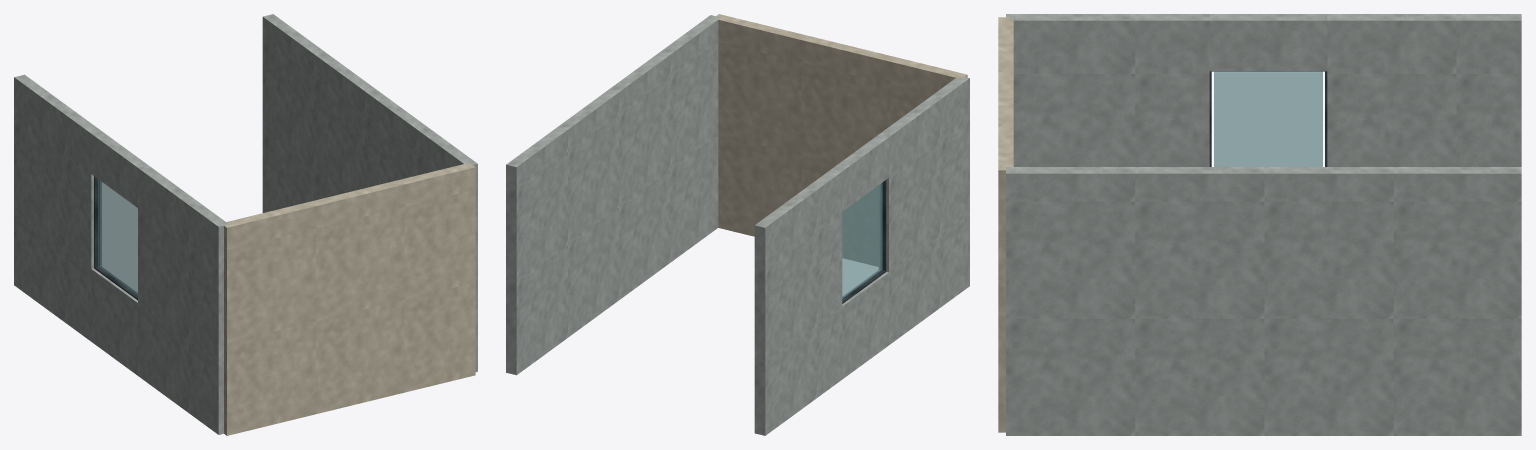
Rendered from Stair_Core_Shaft.glb.
3 renders of one model, left to right at view 1: azimuth 30°, elevation 25°; view 2: azimuth 150°, elevation 25°; view 3: azimuth 270°, elevation 25°, orthographic. The views are drawn at different scales.
Parts seen in each view (by area): view 1: VIS_Shaft_Rear_wall_0_0_0009, VIS_Shaft_Wall_East_wall_0_0_0008, VIS_Shaft_Wall_West_wall_2_1_0006, VIS_Shaft_Wall_West_wall_0_1_0001, VIS_Shaft_Wall_West_wall_2_0_0005, VIS_Shaft_Wall_West_wall_0_0_0000, VIS_Shaft_Wall_West_wall_2_2_0007, VIS_Shaft_Wall_West_wall_0_2_0002, VIS_Shaft_Wall_West_wall_1_0_0003, VIS_Shaft_Window_pane_0014, VIS_Shaft_Wall_West_wall_1_2_0004, VIS_Shaft_Window_upright_0010; view 2: VIS_Shaft_Wall_East_wall_0_0_0008, VIS_Shaft_Rear_wall_0_0_0009, VIS_Shaft_Wall_West_wall_0_1_0001, VIS_Shaft_Wall_West_wall_2_1_0006, VIS_Shaft_Wall_West_wall_0_0_0000, VIS_Shaft_Wall_West_wall_2_0_0005, VIS_Shaft_Wall_West_wall_0_2_0002, VIS_Shaft_Wall_West_wall_2_2_0007, VIS_Shaft_Wall_West_wall_1_0_0003, VIS_Shaft_Window_pane_0014, VIS_Shaft_Wall_West_wall_1_2_0004, VIS_Shaft_Window_upright_0011; view 3: VIS_Shaft_Wall_East_wall_0_0_0008, VIS_Shaft_Wall_West_wall_2_1_0006, VIS_Shaft_Wall_West_wall_0_1_0001, VIS_Shaft_Wall_West_wall_2_2_0007, VIS_Shaft_Wall_West_wall_0_2_0002, VIS_Shaft_Window_pane_0014, VIS_Shaft_Wall_West_wall_1_2_0004, VIS_Shaft_Rear_wall_0_0_0009.
Boxes of the visible parts, x1,y1,x2,y2 form: VIS_Shaft_Rear_wall_0_0_0009: (222, 163, 475, 435); VIS_Shaft_Wall_East_wall_0_0_0008: (262, 14, 477, 371); VIS_Shaft_Wall_West_wall_2_1_0006: (138, 208, 223, 361); VIS_Shaft_Wall_West_wall_0_1_0001: (14, 117, 101, 268); VIS_Shaft_Wall_West_wall_2_0_0005: (138, 303, 223, 434); VIS_Shaft_Wall_West_wall_0_0_0000: (14, 212, 91, 341); VIS_Shaft_Wall_West_wall_2_2_0007: (138, 165, 228, 266); VIS_Shaft_Wall_West_wall_0_2_0002: (14, 74, 101, 173); VIS_Shaft_Wall_West_wall_1_0_0003: (91, 266, 137, 375); VIS_Shaft_Window_pane_0014: (98, 179, 137, 294); VIS_Shaft_Wall_West_wall_1_2_0004: (91, 131, 147, 207); VIS_Shaft_Window_upright_0010: (94, 176, 99, 268); VIS_Shaft_Wall_East_wall_0_0_0008: (506, 15, 720, 375); VIS_Shaft_Rear_wall_0_0_0009: (714, 14, 967, 266); VIS_Shaft_Wall_West_wall_0_1_0001: (754, 212, 842, 362); VIS_Shaft_Wall_West_wall_2_1_0006: (879, 118, 969, 272); VIS_Shaft_Wall_West_wall_0_0_0000: (754, 307, 842, 435); VIS_Shaft_Wall_West_wall_2_0_0005: (889, 213, 969, 344); VIS_Shaft_Wall_West_wall_0_2_0002: (754, 169, 842, 267); VIS_Shaft_Wall_West_wall_2_2_0007: (879, 76, 969, 177); VIS_Shaft_Wall_West_wall_1_0_0003: (842, 270, 888, 379); VIS_Shaft_Window_pane_0014: (842, 182, 882, 298); VIS_Shaft_Wall_West_wall_1_2_0004: (832, 134, 888, 211); VIS_Shaft_Window_upright_0011: (880, 180, 886, 270); VIS_Shaft_Wall_East_wall_0_0_0008: (1006, 167, 1521, 435); VIS_Shaft_Wall_West_wall_2_1_0006: (1013, 71, 1209, 166); VIS_Shaft_Wall_West_wall_0_1_0001: (1327, 71, 1521, 166); VIS_Shaft_Wall_West_wall_2_2_0007: (1006, 14, 1209, 71); VIS_Shaft_Wall_West_wall_0_2_0002: (1327, 14, 1521, 71); VIS_Shaft_Window_pane_0014: (1214, 71, 1322, 166); VIS_Shaft_Wall_West_wall_1_2_0004: (1209, 14, 1327, 71); VIS_Shaft_Rear_wall_0_0_0009: (998, 17, 1013, 432).
Size of the model in its own units: 4.17 by 3.2 by 5.79.
4 materials, 4 textured.
